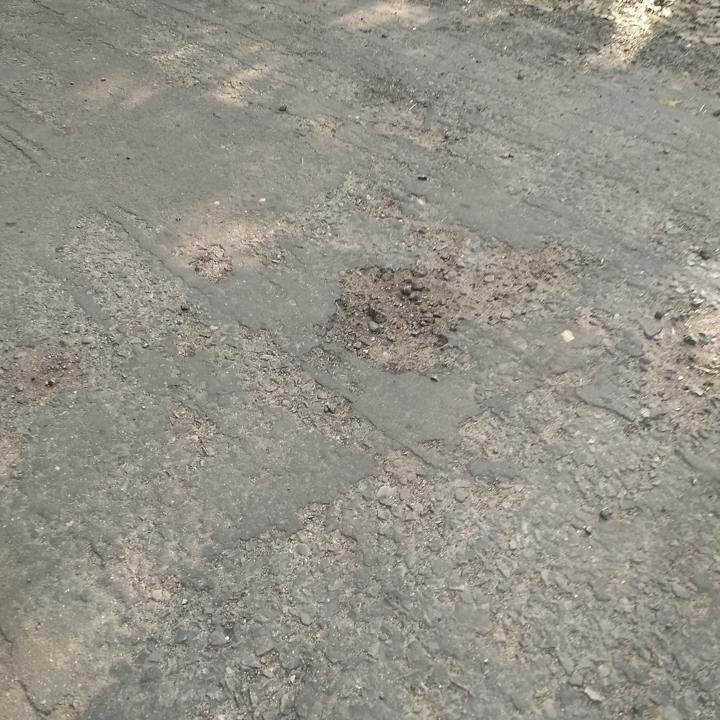pothole: (316, 259, 449, 373)
